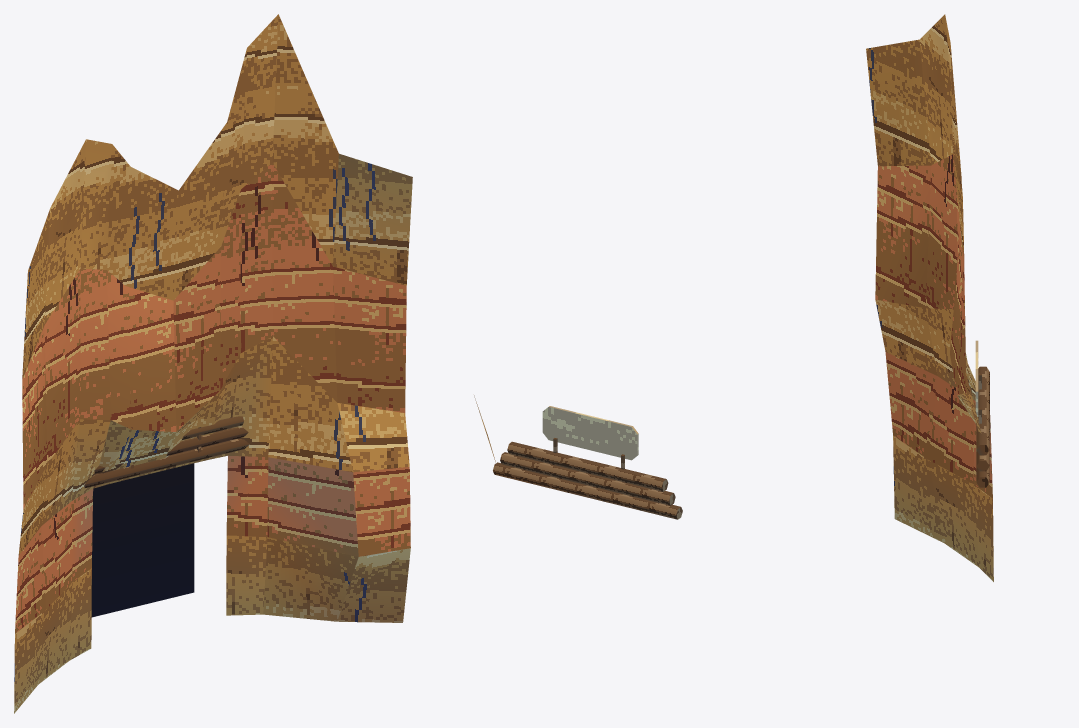
The model's file is wmine.portal__canyon.glb.
3 renders of one model, left to right at view 1: azimuth 30°, elevation 25°; view 2: azimuth 150°, elevation 25°; view 3: azimuth 270°, elevation 25°, orthographic. The views are drawn at different scales.
Parts seen in each view (by area): view 1: kit_shell_face, kit_card_depth, kit_lagging; view 2: kit_lagging, kit_trim; view 3: kit_shell_face, kit_lagging.
Boxes of the visible parts, x1=… form: kit_shell_face: x1=14, y1=14, x2=412, y2=713; kit_card_depth: x1=91, y1=463, x2=194, y2=617; kit_lagging: x1=84, y1=416, x2=249, y2=487; kit_lagging: x1=493, y1=441, x2=682, y2=519; kit_trim: x1=542, y1=406, x2=638, y2=460; kit_shell_face: x1=866, y1=14, x2=993, y2=581; kit_lagging: x1=976, y1=366, x2=989, y2=487.
Bounding box in the file's own units: 8 × 12.2 × 3.45.
Materials: 7 (7 with a texture image).
